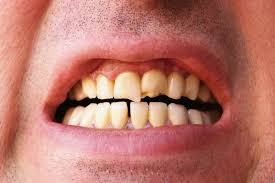normal: (167, 75, 183, 99), (169, 104, 187, 125), (69, 108, 81, 126), (71, 84, 85, 99), (189, 110, 202, 125), (202, 112, 210, 124)
rough: (114, 73, 140, 102), (142, 71, 166, 95), (185, 76, 198, 100)
yellow: (148, 101, 168, 127), (131, 100, 148, 129), (110, 104, 127, 130), (95, 76, 113, 97), (96, 103, 109, 128), (82, 104, 96, 126), (81, 78, 95, 98)
